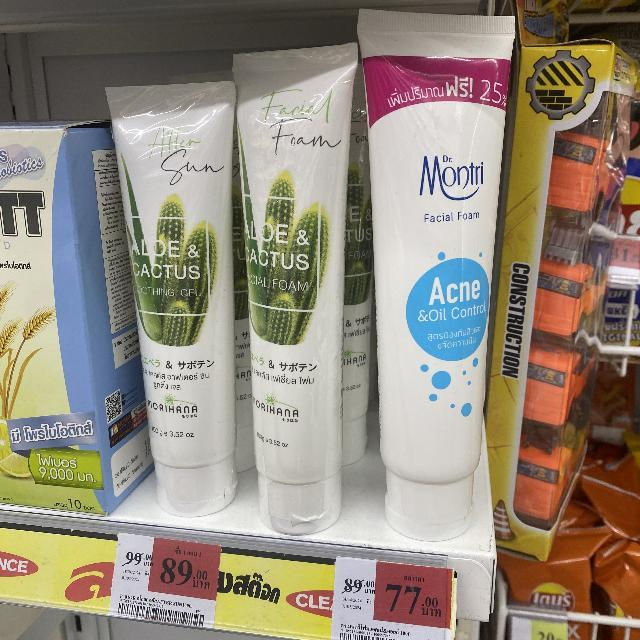Squeeze Tube: (74, 0, 532, 572)
